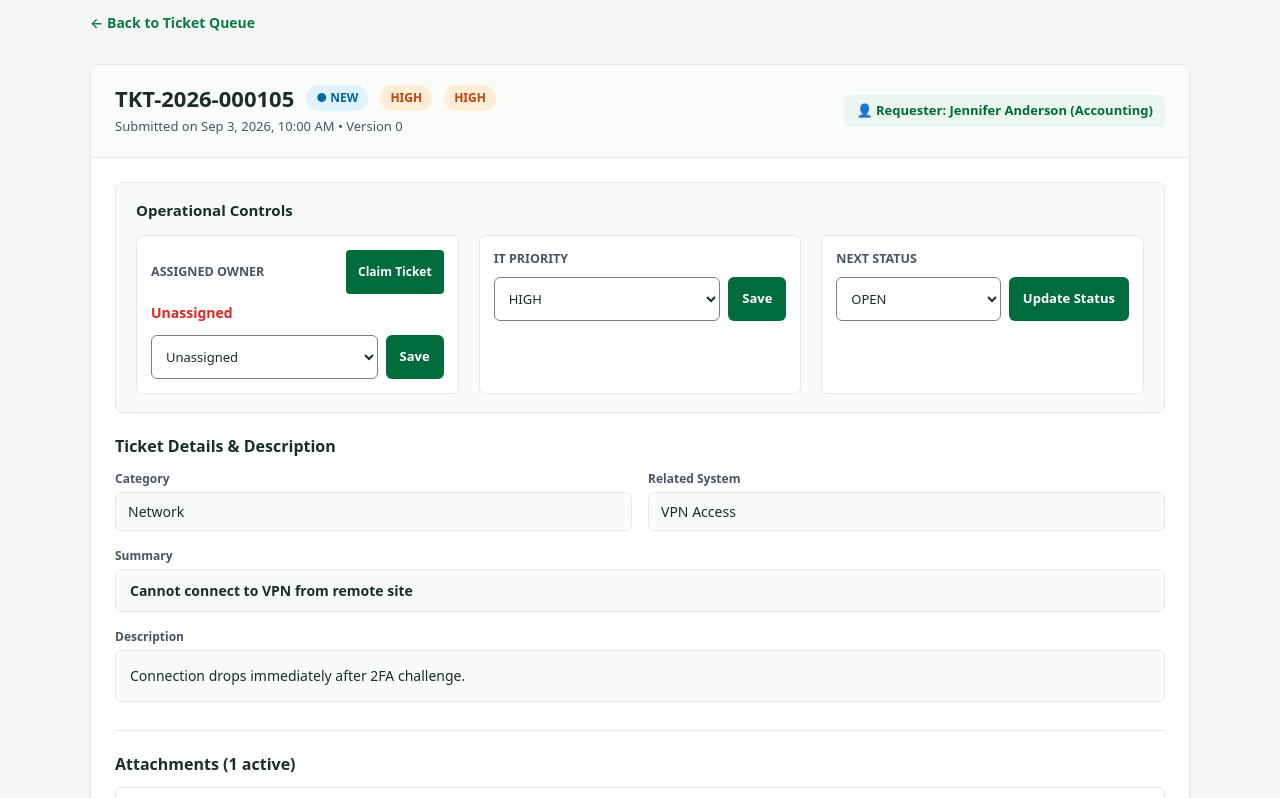
Scenario: UI-05, UI-06, UI-09: Staff Ticket Detail Operations Component › shows only legal next statuses and opens accessible confirmation dialog for confirmed transitions
CANCELLED requires confirmation dialog
Select "CANCELLED (Requires confirmation)" in the dropdown with test id "select-status" at [919, 299], box [836,277,1001,321]
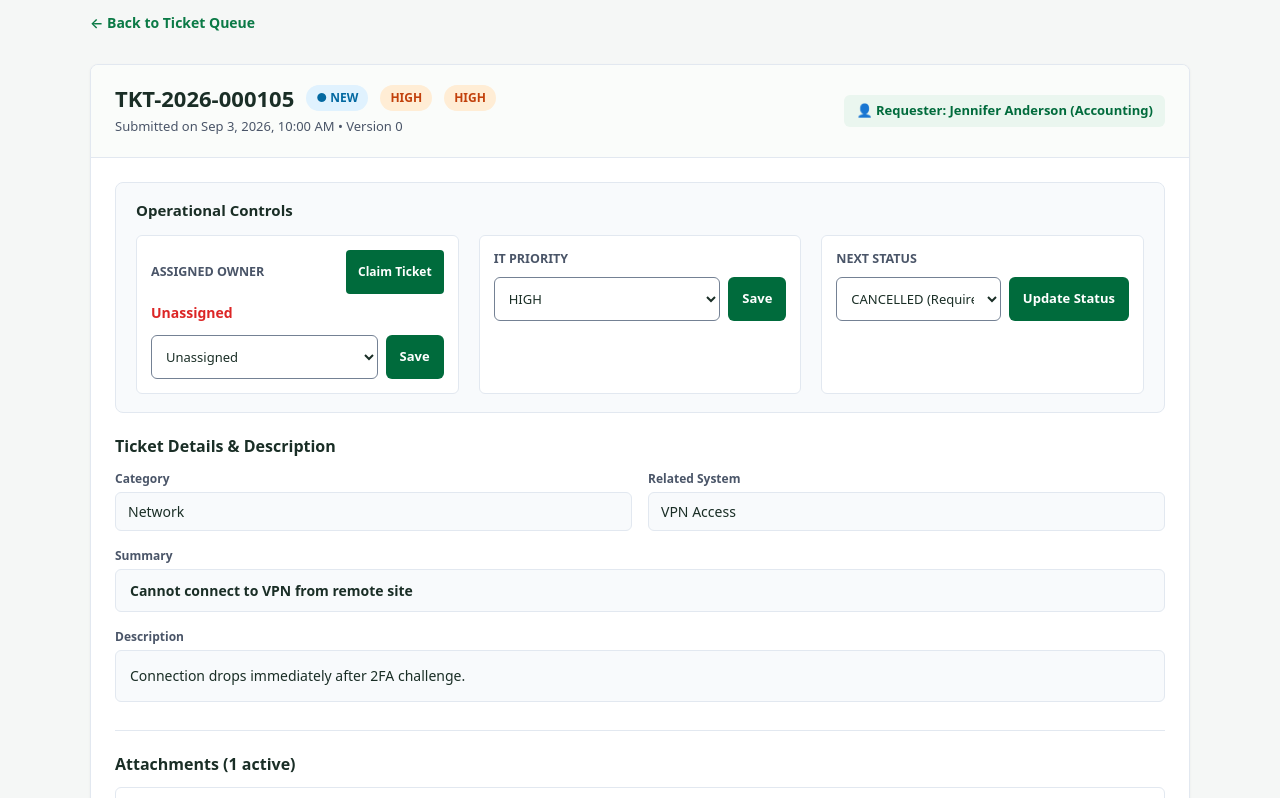
Click the button with test id "btn-save-status" at [1069, 299], box [1009,277,1129,321]
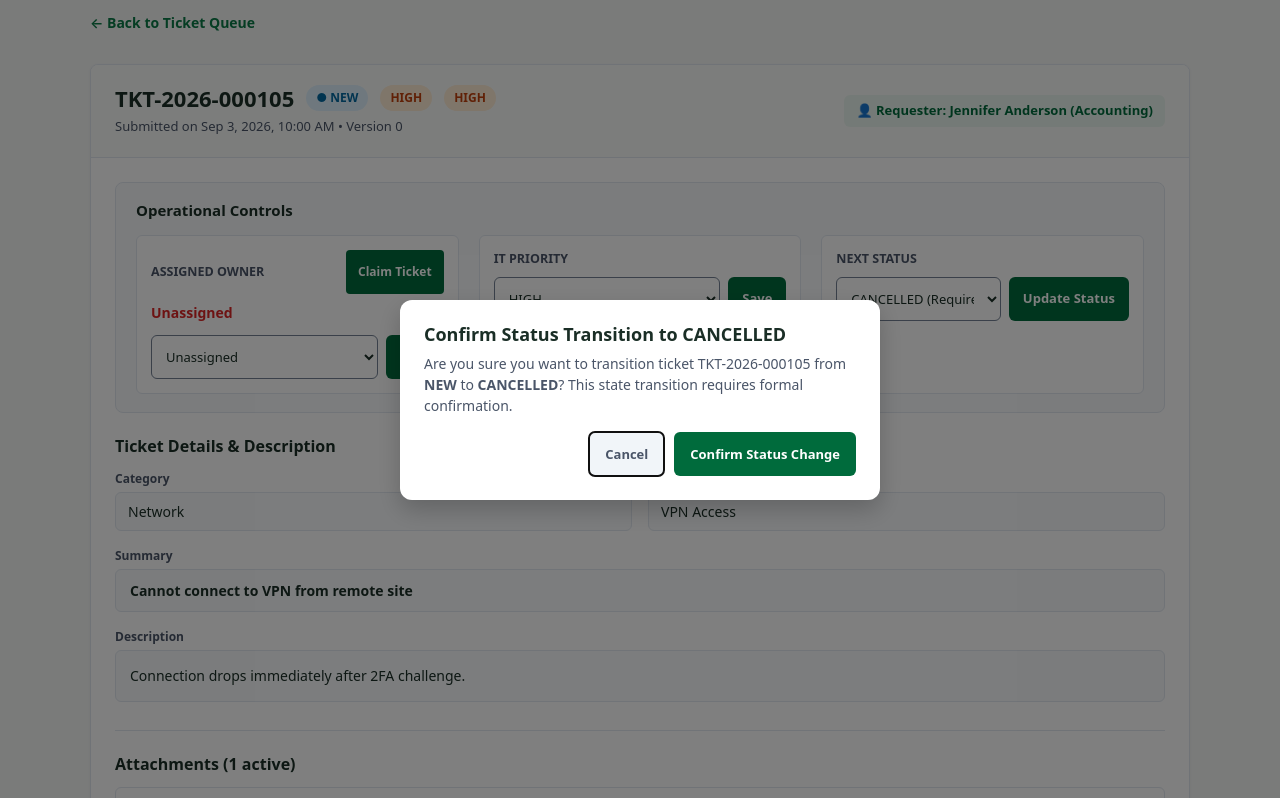
expect the dialog is shown: met, box [400,300,880,500]
Click the button with test id "btn-confirm-status-modal" at [765, 454], box [674,432,856,476]
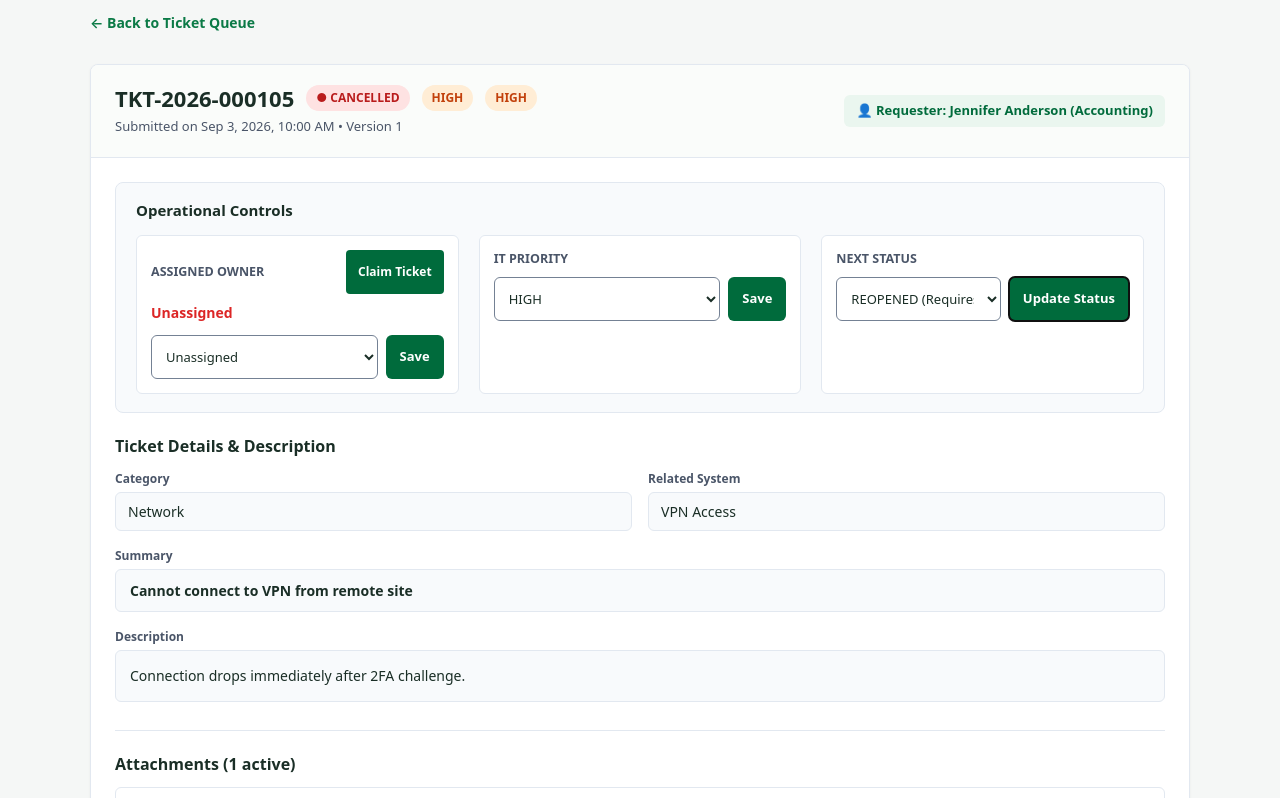
expect the text with test id "status-badge" shows "CANCELLED": met, box [330,89,400,106]
